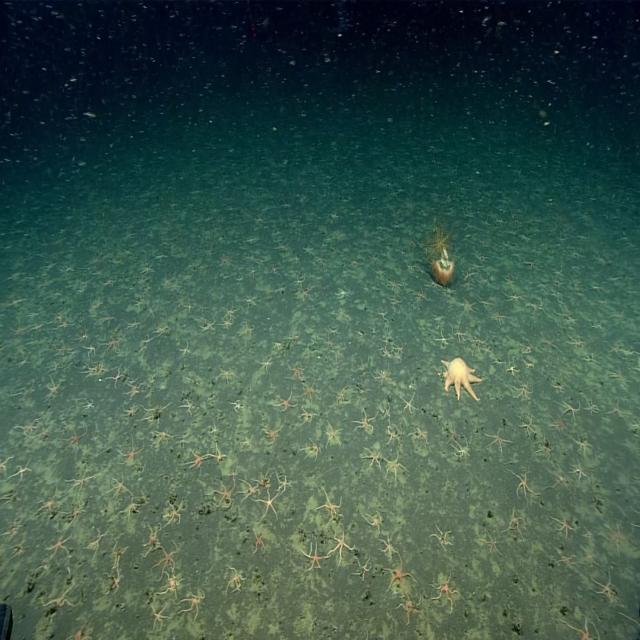brittle-stars: (84, 523, 110, 562), (431, 574, 458, 610), (385, 559, 412, 593), (566, 616, 603, 640), (592, 572, 618, 605), (511, 470, 536, 503), (330, 532, 354, 565), (44, 584, 74, 610), (156, 544, 179, 577), (68, 469, 96, 496), (318, 489, 342, 520), (614, 607, 640, 635), (604, 520, 628, 550), (398, 591, 421, 622), (518, 292, 545, 318), (304, 542, 327, 572), (212, 477, 234, 508), (182, 589, 204, 618), (120, 440, 144, 466), (606, 397, 629, 424), (0, 514, 23, 541), (548, 464, 570, 492), (63, 429, 87, 454), (261, 492, 281, 522), (485, 427, 508, 453), (49, 532, 72, 558), (136, 327, 159, 353), (538, 327, 560, 354), (227, 565, 248, 592), (384, 451, 404, 479), (39, 486, 59, 514), (0, 486, 25, 508), (434, 524, 455, 550), (422, 272, 444, 296), (468, 250, 494, 270), (509, 507, 526, 537), (274, 389, 296, 412), (559, 398, 580, 422), (12, 457, 33, 481), (284, 320, 302, 348), (165, 502, 184, 528), (150, 605, 169, 631), (83, 292, 102, 318), (549, 308, 576, 326), (354, 410, 376, 432), (553, 515, 574, 538), (144, 405, 167, 426), (483, 533, 501, 559), (577, 354, 604, 371), (362, 448, 381, 472), (164, 572, 183, 596), (324, 421, 342, 446), (10, 347, 28, 372), (144, 525, 161, 551), (109, 475, 128, 498), (304, 438, 322, 462), (65, 624, 92, 640), (239, 480, 260, 500), (342, 253, 363, 273), (263, 422, 282, 444), (68, 500, 87, 522), (12, 384, 35, 402), (124, 496, 142, 518), (536, 437, 554, 459), (109, 542, 127, 564), (556, 551, 576, 570), (549, 375, 569, 394), (302, 380, 320, 401), (378, 536, 395, 558), (356, 556, 372, 579), (102, 336, 121, 355), (513, 384, 533, 402), (373, 367, 391, 387), (552, 414, 569, 435), (455, 278, 477, 294), (187, 451, 206, 469), (21, 419, 40, 437), (29, 318, 42, 344), (252, 530, 266, 554), (570, 461, 586, 482), (608, 365, 626, 383), (567, 335, 586, 352), (520, 417, 536, 437), (402, 393, 418, 413), (454, 438, 470, 458), (365, 512, 381, 532), (216, 250, 232, 270), (46, 377, 61, 398), (112, 568, 125, 592), (336, 384, 350, 406), (478, 269, 492, 291), (155, 429, 173, 446), (452, 323, 468, 342), (55, 343, 74, 359), (430, 308, 446, 327), (180, 397, 196, 415), (413, 425, 429, 443), (108, 368, 124, 386), (46, 358, 64, 374), (492, 350, 504, 373), (218, 366, 235, 382), (288, 363, 304, 380), (606, 342, 622, 359), (632, 509, 640, 543), (460, 265, 477, 281), (575, 438, 590, 456), (260, 356, 275, 374), (210, 446, 225, 464), (301, 408, 316, 426), (582, 550, 597, 568), (278, 474, 292, 493), (223, 303, 239, 319), (460, 298, 475, 315), (127, 382, 142, 399), (10, 325, 27, 340), (503, 290, 521, 304), (585, 399, 599, 417), (0, 455, 12, 476), (260, 470, 274, 488), (379, 403, 392, 422), (356, 358, 369, 377), (240, 322, 255, 338), (413, 286, 428, 302), (507, 359, 521, 376), (332, 345, 346, 362), (145, 303, 158, 321), (386, 426, 399, 444), (584, 524, 596, 543), (125, 404, 140, 419), (100, 312, 115, 327), (58, 316, 73, 331), (202, 317, 216, 333), (336, 305, 350, 321), (478, 294, 493, 308), (473, 336, 488, 350), (336, 286, 351, 300), (231, 398, 245, 413), (269, 339, 283, 354), (179, 340, 190, 359), (162, 273, 175, 289), (522, 259, 538, 272), (437, 332, 451, 346), (128, 316, 142, 330), (220, 316, 233, 331), (156, 324, 171, 337), (387, 279, 402, 292), (85, 343, 98, 358), (521, 342, 534, 357), (491, 311, 506, 324), (595, 295, 610, 308), (448, 425, 460, 441), (444, 283, 456, 299), (198, 301, 211, 315), (377, 308, 390, 322), (155, 249, 169, 262), (244, 293, 257, 307), (381, 346, 393, 360), (140, 265, 154, 277), (388, 294, 402, 306), (242, 436, 254, 450), (522, 358, 536, 370), (84, 362, 96, 376), (100, 278, 114, 290), (132, 298, 144, 312), (589, 282, 603, 294), (86, 398, 98, 411), (503, 275, 515, 288), (177, 436, 189, 449), (315, 253, 328, 265), (78, 331, 90, 344), (96, 363, 107, 377), (324, 335, 334, 350), (304, 243, 316, 255), (552, 268, 564, 280), (292, 276, 304, 288), (183, 271, 194, 284), (184, 301, 194, 315), (393, 344, 404, 356), (247, 266, 258, 278), (376, 267, 388, 278), (328, 324, 339, 336), (209, 422, 218, 436), (632, 418, 640, 433), (484, 345, 494, 357), (244, 251, 254, 263), (633, 359, 640, 374)
